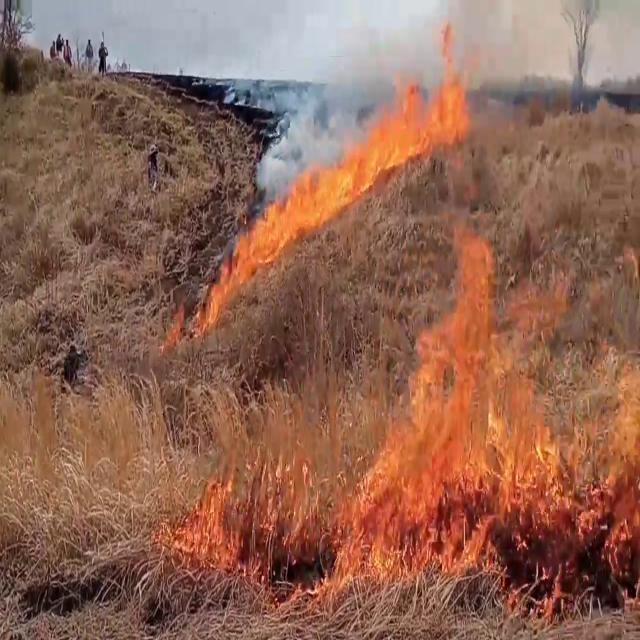Fire: (346, 222, 640, 572), (204, 142, 376, 310), (181, 429, 315, 570), (352, 27, 472, 182)
